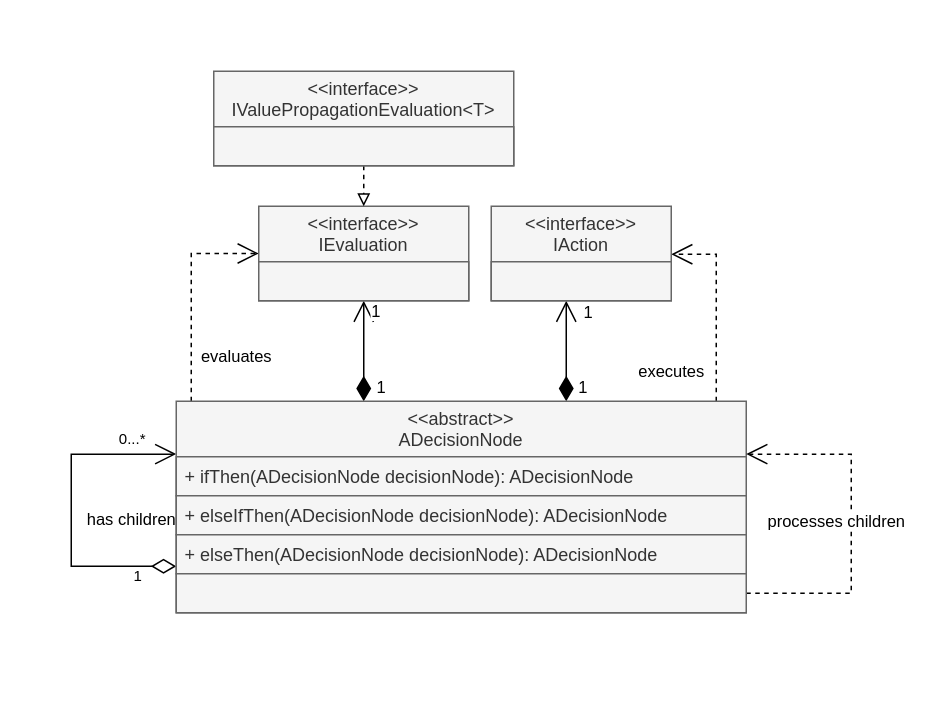
Some shapes in this 951 by 711 pixel diagram are drawn without their labels. The box of each missing label's shape, as (x1, y1, x2, y2) in pixels:
+ evaluate(): boolean: (257, 260, 469, 301)
+ execute(): void: (490, 260, 671, 301)
+ get(): T: (212, 125, 514, 166)
+ process():void: (175, 572, 746, 613)
